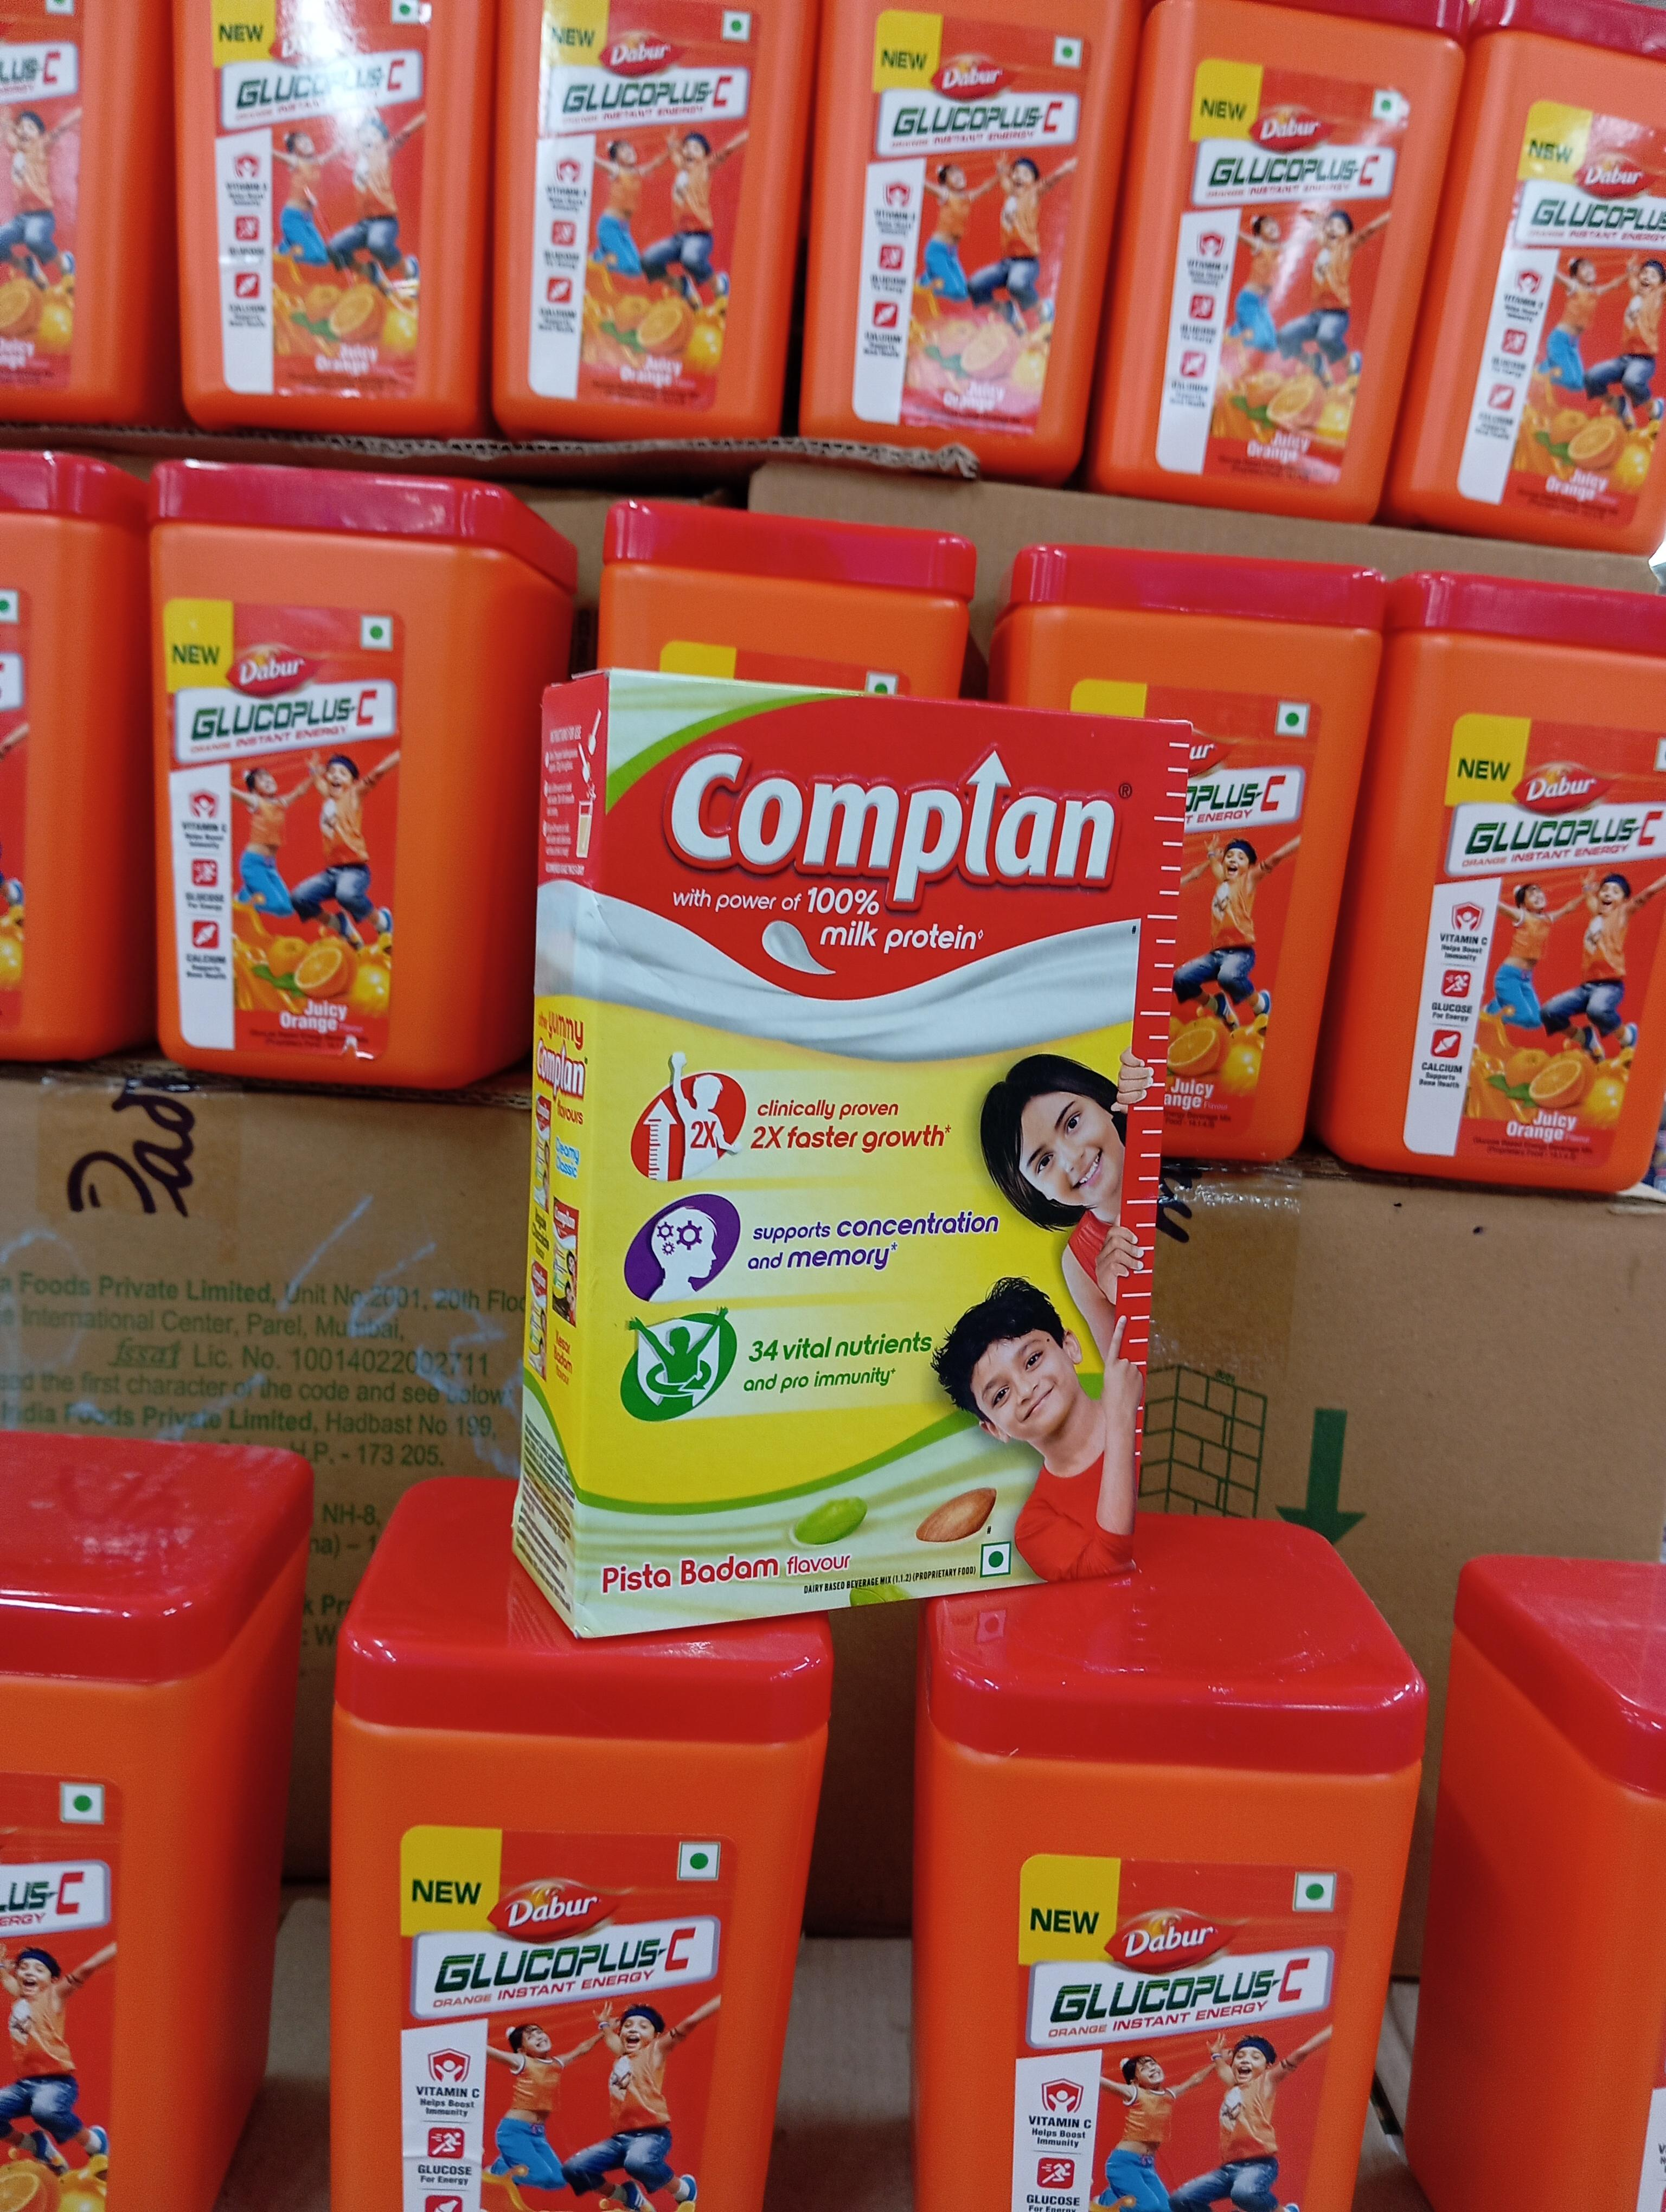COMPLAN_PISTA_BADAM_500_GMS_PACK: (606, 682, 1141, 1588)
